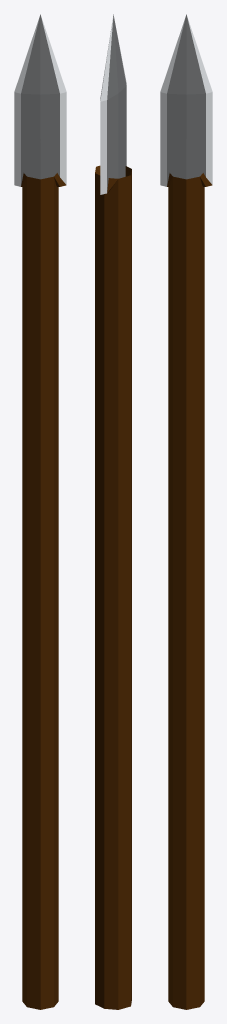
Rendered from spear.fbx.
The picture shows the model from 3 angles, left to right: view 1: azimuth 90°, elevation 25°; view 2: azimuth 150°, elevation 25°; view 3: azimuth 270°, elevation 25°; orthographic projection.
Parts seen in each view (by area): view 1: Spear; view 2: Spear; view 3: Spear.
Boxes of the visible parts, <box> form: Spear: <box>14,14,66,1009</box>; Spear: <box>95,14,131,1009</box>; Spear: <box>160,14,212,1009</box>.
Bounding box in the file's own units: 68.51 × 1849 × 88.98.
